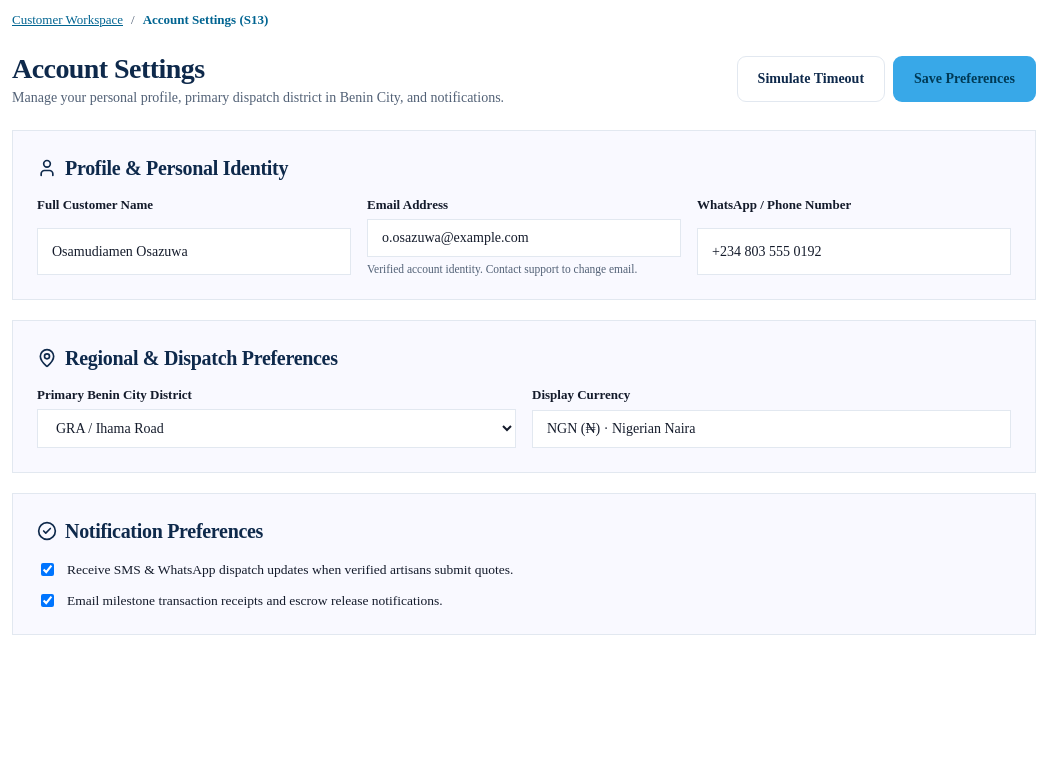
Customer Requests & Matching (S13, S14, S15, S16) › updates settings and provides user feedback in S13
This screenshot has width=1048, height=780.
Click the button "Save Preferences".
click(964, 79)  # box left=893, top=56, right=1036, bottom=102
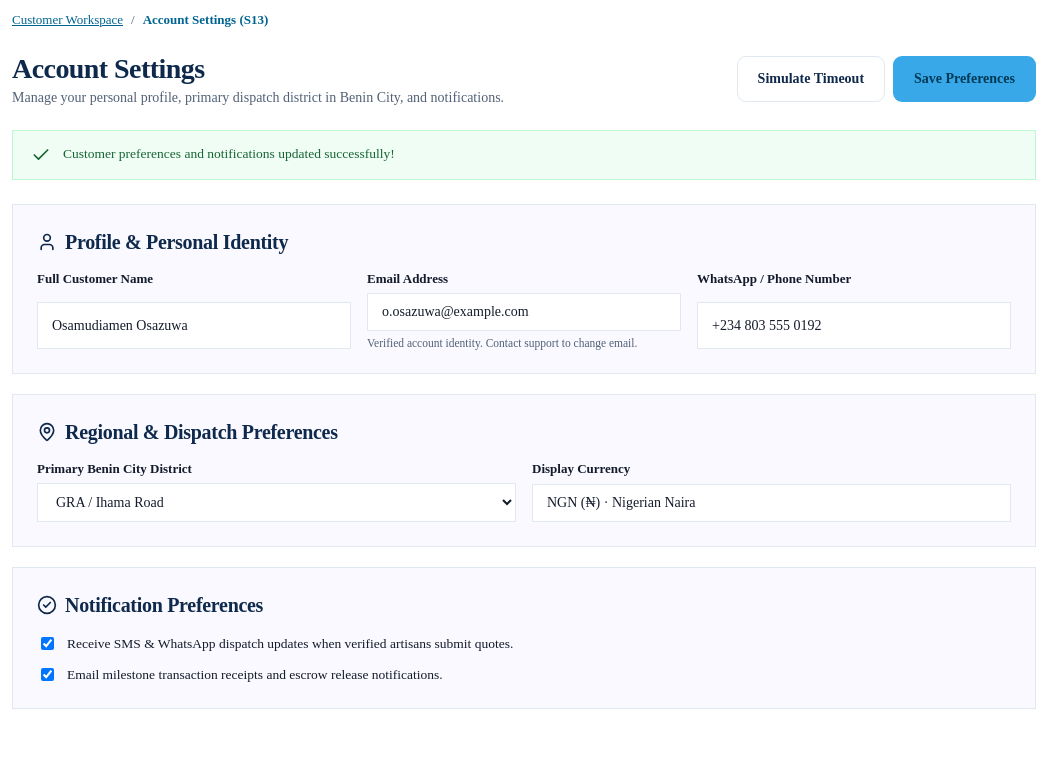
Result: the text "Customer preferences and notifications updated successfully!" is shown at left=63, top=145, right=395, bottom=164
